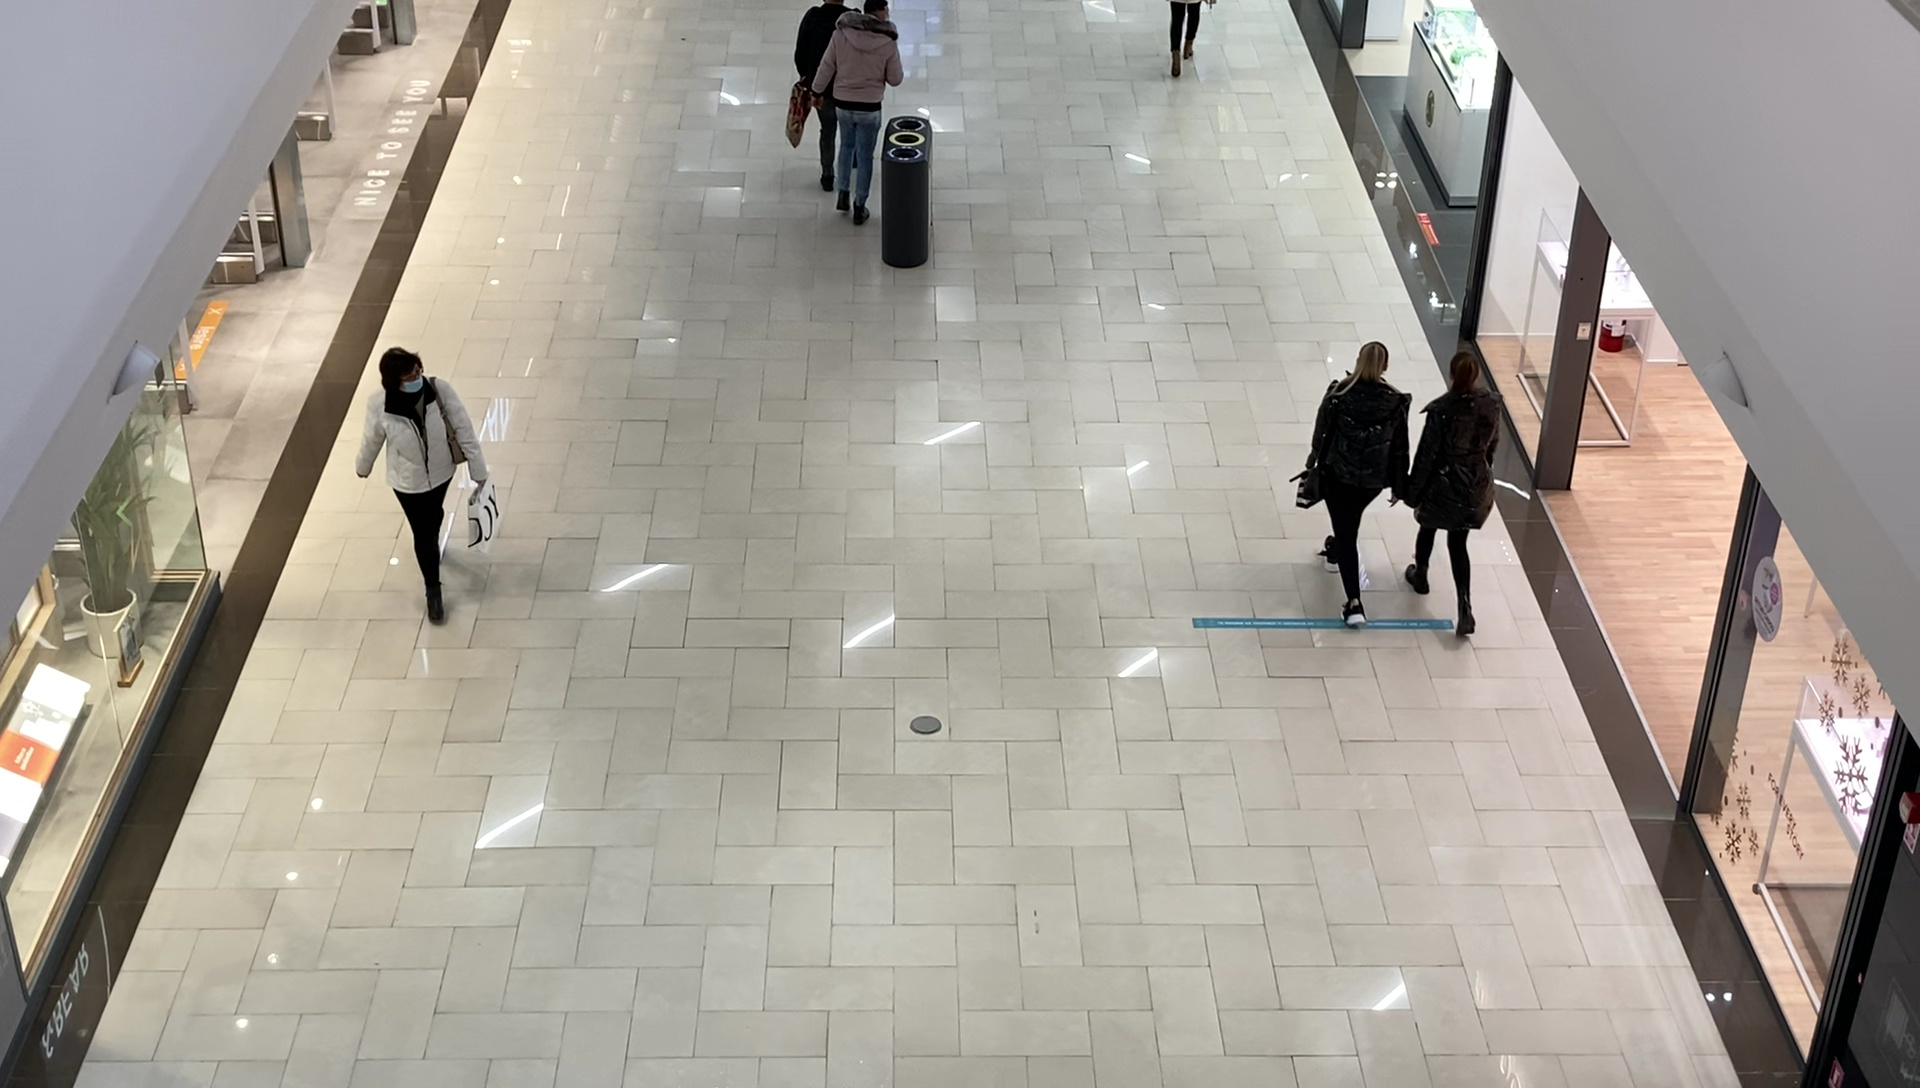person: (355, 347, 501, 625), (1310, 342, 1410, 626), (1412, 353, 1503, 638), (811, 1, 905, 226)
